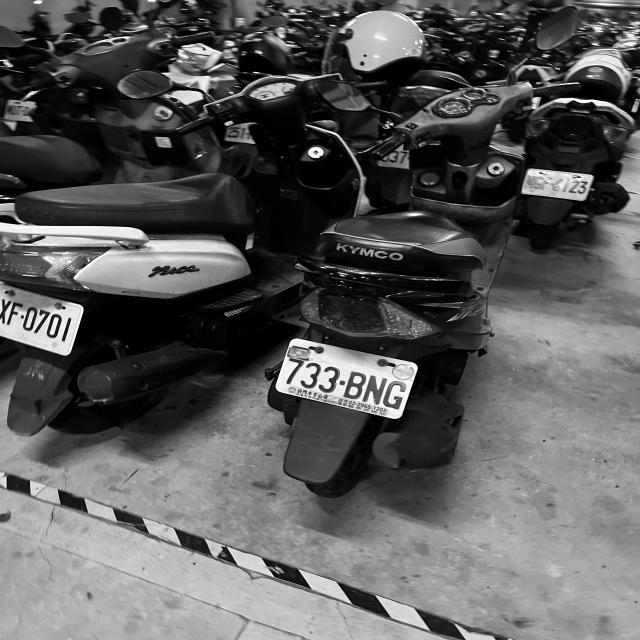-: (337, 378, 349, 388), (19, 315, 26, 320)
0: (43, 312, 66, 340), (20, 305, 40, 333)
1: (58, 316, 75, 344), (239, 127, 247, 139)
2: (567, 180, 581, 194)
3: (316, 364, 344, 396), (298, 360, 326, 390), (576, 181, 591, 196)
7: (281, 357, 307, 387), (32, 309, 52, 335), (399, 150, 409, 165)
B: (341, 369, 368, 402)
F: (5, 301, 26, 326)
G: (381, 377, 409, 412)
N: (361, 373, 390, 406)
plate: (274, 340, 421, 420)
